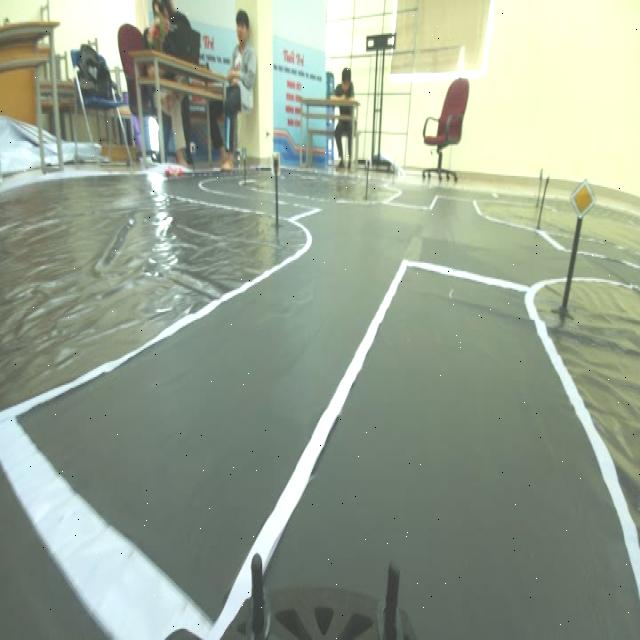priority: (566, 172, 596, 222)
